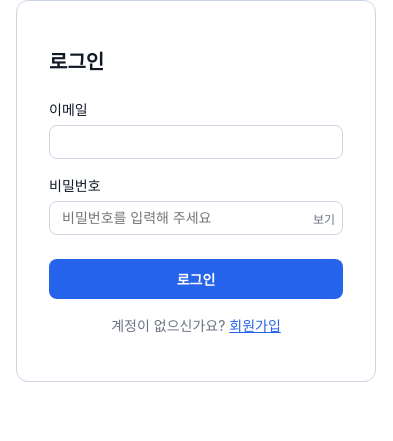
LoginForm › 유효하지 않은 이메일 submit 시 이메일 형식 오류를 표시한다
This screenshot has width=393, height=441.
Type "invalid-email" into the field labelled "이메일" at (196, 142), box [49, 125, 343, 159]
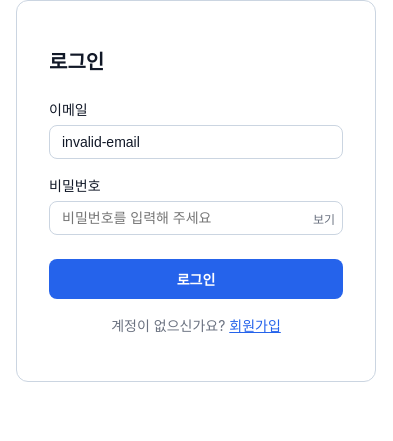
Click the button "로그인" at (196, 279), box [49, 259, 343, 299]
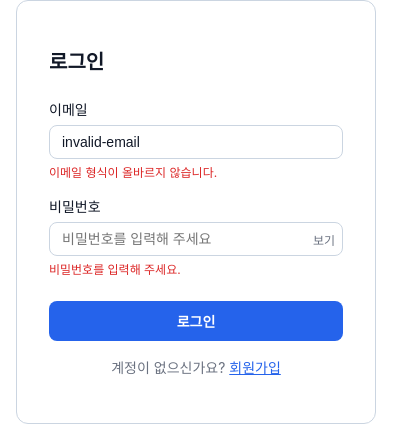
Check: the text "이메일 형식이 올바르지 않습니다." is shown, box [49, 165, 217, 180]
